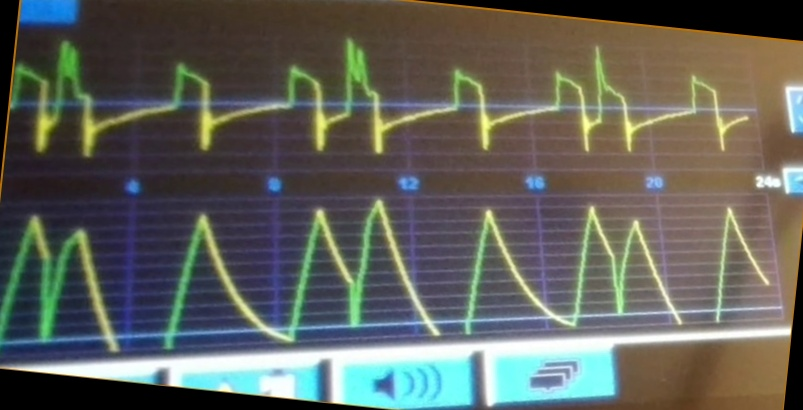Double_Triggering Flow: (15, 37, 646, 166)
Double_Triggering Volume: (2, 200, 685, 336)
